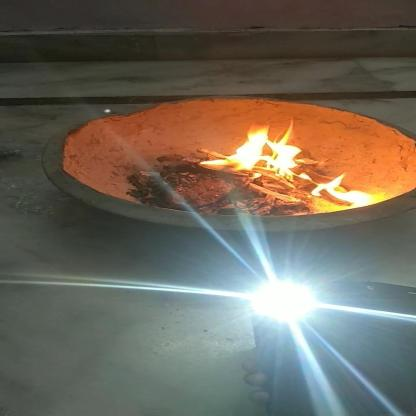fire: (204, 121, 313, 176), (310, 172, 377, 206)
